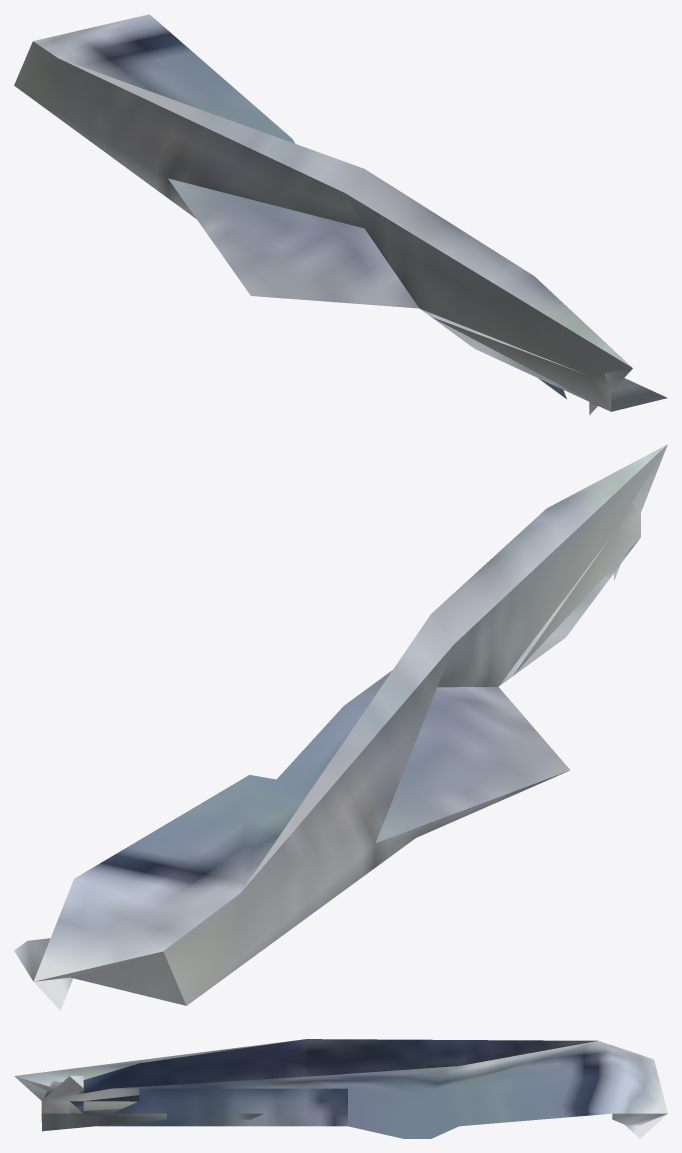
The picture shows the model from 3 angles, top to bottom: view 1: azimuth 30°, elevation 25°; view 2: azimuth 150°, elevation 25°; view 3: azimuth 270°, elevation 25°; orthographic projection. The views are drawn at different scales.
Parts seen in each view (by area): view 1: 3043627270436170465_0; view 2: 3043627270436170465_0; view 3: 3043627270436170465_0.
Boxes of the visible parts, x1,y1,x2,y2 form: 3043627270436170465_0: (14,14,667,414); 3043627270436170465_0: (14,444,667,1010); 3043627270436170465_0: (14,1039,667,1138).
Size of the model in its own units: 3.38 by 2.16 by 14.5.
Materials: 1 (1 with a texture image).
